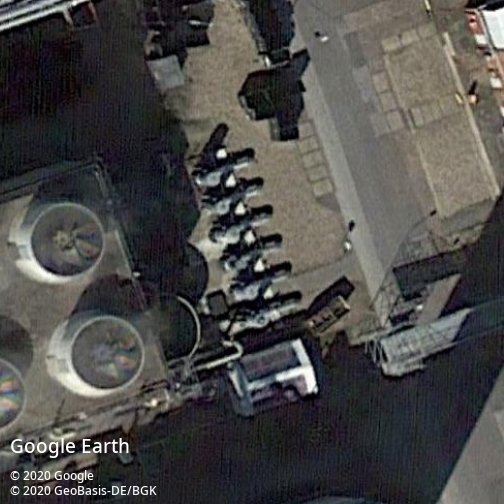Vent: (28, 202, 106, 280), (68, 315, 144, 392)
